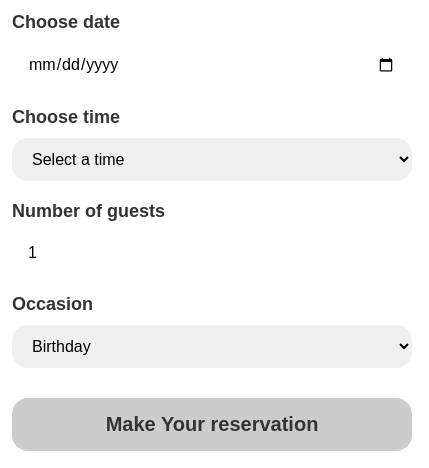
Submit button is disabled when guests count is invalid
This screenshot has width=429, height=468.
Type "2026-12-01" into the date field named "Select reservation date" at coordinates (212, 65), box [12,43,412,87]
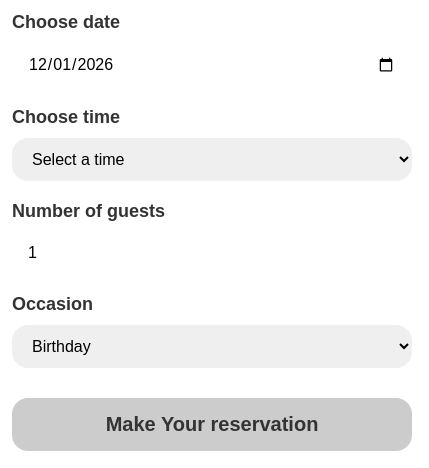
Select "17:00" in the dropdown named "Select reservation time" at coordinates (212, 160), box [12,138,412,181]
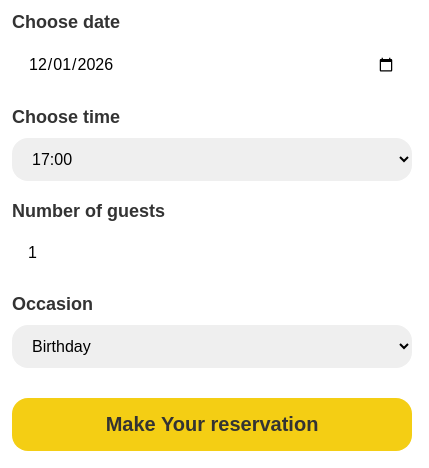
Type "0" into the number field labelled "Number of guests" at coordinates (212, 253), box [12,232,412,274]
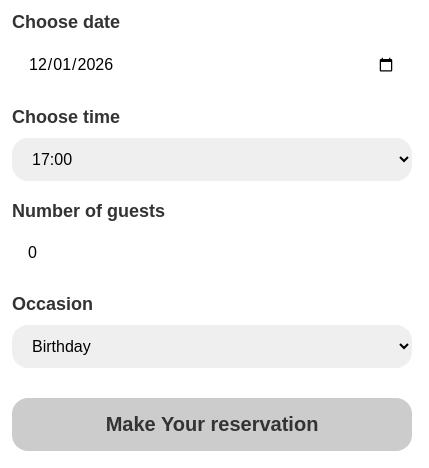
Expected: the button with aria-label "On Click" is disabled, [12,398,412,451]
